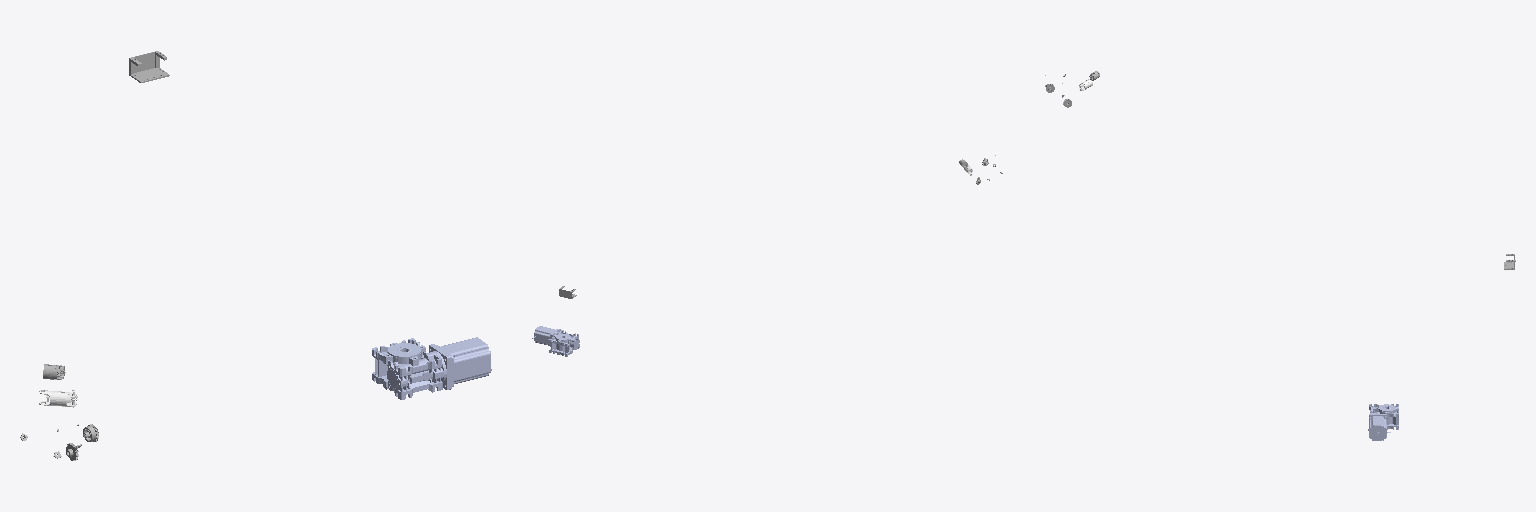
The robot description file, URDF, robot "full_robot_arm_urdf":
<?xml version="1.0" encoding="utf-8"?>
<!-- This URDF was automatically created by SolidWorks to URDF Exporter! Originally created by Stephen Brawner ([email redacted]) 
     Commit Version: 1.6.0-4-g7f85cfe  Build Version: 1.6.7995.38578
     For more information, please see http://wiki.ros.org/sw_urdf_exporter -->
<robot
  name="full_robot_arm_urdf">
  <link
    name="base_link">
    <inertial>
      <origin
        xyz="-0.00066697 -7.2956E-05 0.11391"
        rpy="0 0 0" />
      <mass
        value="1.2708" />
      <inertia
        ixx="0.0025837"
        ixy="-1.2489E-07"
        ixz="-3.2925E-07"
        iyy="0.0025874"
        iyz="-4.1069E-08"
        izz="0.0043243" />
    </inertial>
    <visual>
      <origin
        xyz="0 0 0"
        rpy="0 0 0" />
      <geometry>
        <mesh
          filename="package://full_robot_arm_urdf/meshes/base_link.STL" />
      </geometry>
      <material
        name="">
        <color
          rgba="0.75294 0.75294 0.75294 1" />
      </material>
    </visual>
    <collision>
      <origin
        xyz="0 0 0"
        rpy="0 0 0" />
      <geometry>
        <mesh
          filename="package://full_robot_arm_urdf/meshes/base_link.STL" />
      </geometry>
    </collision>
  </link>
  <link
    name="link_1">
    <inertial>
      <origin
        xyz="0.034889 0.0045793 0.046707"
        rpy="0 0 0" />
      <mass
        value="0.64188" />
      <inertia
        ixx="0.00046554"
        ixy="-2.0334E-05"
        ixz="2.9258E-05"
        iyy="0.00062637"
        iyz="3.9809E-06"
        izz="0.0006173" />
    </inertial>
    <visual>
      <origin
        xyz="0 0 0"
        rpy="0 0 0" />
      <geometry>
        <mesh
          filename="package://full_robot_arm_urdf/meshes/link_1.STL" />
      </geometry>
      <material
        name="">
        <color
          rgba="0.79216 0.81961 0.93333 1" />
      </material>
    </visual>
    <collision>
      <origin
        xyz="0 0 0"
        rpy="0 0 0" />
      <geometry>
        <mesh
          filename="package://full_robot_arm_urdf/meshes/link_1.STL" />
      </geometry>
    </collision>
  </link>
  <joint
    name="joint_1"
    type="revolute">
    <origin
      xyz="0 0 0.15678"
      rpy="0 0 0" />
    <parent
      link="base_link" />
    <child
      link="link_1" />
    <axis
      xyz="0 0 1" />
    <limit
      lower="-3.142"
      upper="3.142"
      effort="28.35"
      velocity="5.24" />
  </joint>
  <link
    name="link_2">
    <inertial>
      <origin
        xyz="0.001209 0.0061315 0.17443"
        rpy="0 0 0" />
      <mass
        value="0.39695" />
      <inertia
        ixx="0.0020155"
        ixy="5.8977E-06"
        ixz="-4.807E-07"
        iyy="0.0019726"
        iyz="-1.0537E-07"
        izz="0.0001469" />
    </inertial>
    <visual>
      <origin
        xyz="0 0 0"
        rpy="0 0 0" />
      <geometry>
        <mesh
          filename="package://full_robot_arm_urdf/meshes/link_2.STL" />
      </geometry>
      <material
        name="">
        <color
          rgba="0.75294 0.75294 0.75294 1" />
      </material>
    </visual>
    <collision>
      <origin
        xyz="0 0 0"
        rpy="0 0 0" />
      <geometry>
        <mesh
          filename="package://full_robot_arm_urdf/meshes/link_2.STL" />
      </geometry>
    </collision>
  </link>
  <joint
    name="joint_2"
    type="revolute">
    <origin
      xyz="0.00010358 1.3092E-05 0.0737"
      rpy="0 0 0" />
    <parent
      link="link_1" />
    <child
      link="link_2" />
    <axis
      xyz="-0.12539 0.99211 0" />
    <limit
      lower="-1.57"
      upper="1.57"
      effort="28.35"
      velocity="5.24" />
  </joint>
  <link
    name="link_3">
    <inertial>
      <origin
        xyz="-0.120540562634149 -0.0102131061643456 -5.76519410341314E-05"
        rpy="0 0 0" />
      <mass
        value="0.271185231914755" />
      <inertia
        ixx="9.09203079177439E-05"
        ixy="-0.000147557836847333"
        ixz="-2.18123959028502E-08"
        iyy="0.00123949608117588"
        iyz="3.22187008268715E-07"
        izz="0.00125346711057046" />
    </inertial>
    <visual>
      <origin
        xyz="0 0 0"
        rpy="0 0 0" />
      <geometry>
        <mesh
          filename="package://full_robot_arm_urdf/meshes/link_3.STL" />
      </geometry>
      <material
        name="">
        <color
          rgba="0.752941176470588 0.752941176470588 0.752941176470588 1" />
      </material>
    </visual>
    <collision>
      <origin
        xyz="0 0 0"
        rpy="0 0 0" />
      <geometry>
        <mesh
          filename="package://full_robot_arm_urdf/meshes/link_3.STL" />
      </geometry>
    </collision>
  </link>
  <joint
    name="joint_3"
    type="revolute">
    <origin
      xyz="0 0 0.4064"
      rpy="0 0 0" />
    <parent
      link="link_2" />
    <child
      link="link_3" />
    <axis
      xyz="0.12539 -0.99211 0" />
    <limit
      lower="-1"
      upper="3.14"
      effort="7.85"
      velocity="6.54" />
  </joint>
  <link
    name="link_4">
    <inertial>
      <origin
        xyz="0.000691147483266152 -0.00337681280202297 0.0288646245756417"
        rpy="0 0 0" />
      <mass
        value="0.18731544179836" />
      <inertia
        ixx="0.000131172951960669"
        ixy="3.82564482216409E-06"
        ixz="4.79993052351855E-09"
        iyy="0.000105908438924271"
        iyz="-1.72598376294206E-08"
        izz="0.000133438325685805" />
    </inertial>
    <visual>
      <origin
        xyz="0 0 0"
        rpy="0 0 0" />
      <geometry>
        <mesh
          filename="package://full_robot_arm_urdf/meshes/link_4.STL" />
      </geometry>
      <material
        name="">
        <color
          rgba="0.752941176470588 0.752941176470588 0.752941176470588 1" />
      </material>
    </visual>
    <collision>
      <origin
        xyz="0 0 0"
        rpy="0 0 0" />
      <geometry>
        <mesh
          filename="package://full_robot_arm_urdf/meshes/link_4.STL" />
      </geometry>
    </collision>
  </link>
  <joint
    name="joint_4"
    type="revolute">
    <origin
      xyz="-0.34841 -0.039718 0"
      rpy="0 0 0" />
    <parent
      link="link_3" />
    <child
      link="link_4" />
    <axis
      xyz="-0.12539 0.99211 0" />
    <limit
      lower="-3.14"
      upper="0"
      effort="2.45"
      velocity="8.08" />
  </joint>
  <link
    name="link_5">
    <inertial>
      <origin
        xyz="0.0135249185469873 0.0104054911896331 0.0389186612091647"
        rpy="0 0 0" />
      <mass
        value="0.451187361366382" />
      <inertia
        ixx="0.000179281260637796"
        ixy="-3.85719776156931E-06"
        ixz="-6.31784674882797E-07"
        iyy="0.000181879982946338"
        iyz="-6.0025556110912E-08"
        izz="0.000285356657571111" />
    </inertial>
    <visual>
      <origin
        xyz="0 0 0"
        rpy="0 0 0" />
      <geometry>
        <mesh
          filename="package://full_robot_arm_urdf/meshes/link_5.STL" />
      </geometry>
      <material
        name="">
        <color
          rgba="0.752941176470588 0.752941176470588 0.752941176470588 1" />
      </material>
    </visual>
    <collision>
      <origin
        xyz="0 0 0"
        rpy="0 0 0" />
      <geometry>
        <mesh
          filename="package://full_robot_arm_urdf/meshes/link_5.STL" />
      </geometry>
    </collision>
  </link>
  <joint
    name="joint_5"
    type="revolute">
    <origin
      xyz="0 0 0.077198"
      rpy="0 0 0" />
    <parent
      link="link_4" />
    <child
      link="link_5" />
    <axis
      xyz="0 0 -1" />
    <limit
      lower="-3.14"
      upper="3.14"
      effort="2.45"
      velocity="8.08" />
  </joint>
  <link
    name="ee_thumb_prox">
    <inertial>
      <origin
        xyz="-0.000363742372263914 -0.0136623441316672 0.0124786350606823"
        rpy="0 0 0" />
      <mass
        value="0.0140616051661292" />
      <inertia
        ixx="2.66037470712265E-06"
        ixy="-4.61561205563586E-08"
        ixz="3.91772433458902E-08"
        iyy="1.37750923910108E-06"
        iyz="8.22644622578878E-07"
        izz="1.61529675721767E-06" />
    </inertial>
    <visual>
      <origin
        xyz="0 0 0"
        rpy="0 0 0" />
      <geometry>
        <mesh
          filename="package://full_robot_arm_urdf/meshes/ee_thumb_prox.STL" />
      </geometry>
      <material
        name="">
        <color
          rgba="1 1 1 1" />
      </material>
    </visual>
    <collision>
      <origin
        xyz="0 0 0"
        rpy="0 0 0" />
      <geometry>
        <mesh
          filename="package://full_robot_arm_urdf/meshes/ee_thumb_prox.STL" />
      </geometry>
    </collision>
  </link>
  <joint
    name="ee_thumb_prox_joint"
    type="revolute">
    <origin
      xyz="0.044583 0.0062919 0.080425"
      rpy="0 0 1.6777" />
    <parent
      link="link_5" />
    <child
      link="ee_thumb_prox" />
    <axis
      xyz="1 0 0" />
    <limit
      lower="0"
      upper="1.57"
      effort="2.45"
      velocity="8.08" />
  </joint>
  <link
    name="ee_thumb_dist">
    <inertial>
      <origin
        xyz="4.9545E-07 -0.013721 0.012657"
        rpy="0 0 0" />
      <mass
        value="0.011962" />
      <inertia
        ixx="1.1235E-06"
        ixy="5.1548E-09"
        ixz="-2.7094E-09"
        iyy="7.9913E-07"
        iyz="8.7468E-08"
        izz="8.0291E-07" />
    </inertial>
    <visual>
      <origin
        xyz="0 0 0"
        rpy="0 0 0" />
      <geometry>
        <mesh
          filename="package://full_robot_arm_urdf/meshes/ee_thumb_dist.STL" />
      </geometry>
      <material
        name="">
        <color
          rgba="0.75294 0.75294 0.75294 1" />
      </material>
    </visual>
    <collision>
      <origin
        xyz="0 0 0"
        rpy="0 0 0" />
      <geometry>
        <mesh
          filename="package://full_robot_arm_urdf/meshes/ee_thumb_dist.STL" />
      </geometry>
    </collision>
  </link>
  <joint
    name="ee_thumb_dist_joint"
    type="revolute">
    <origin
      xyz="0 -0.035355 0.035355"
      rpy="0 0 0" />
    <parent
      link="ee_thumb_prox" />
    <child
      link="ee_thumb_dist" />
    <axis
      xyz="1 0 0" />
    <limit
      lower="0"
      upper="1.57"
      effort="2.45"
      velocity="8.08" />
  </joint>
  <link
    name="ee_finger1_roll">
    <inertial>
      <origin
        xyz="-0.0030344450905359 0.00298790974640029 0.0236510274163294"
        rpy="0 0 0" />
      <mass
        value="0.026092694642213" />
      <inertia
        ixx="1.75874153155982E-06"
        ixy="2.55040020024406E-07"
        ixz="2.05949516104452E-07"
        iyy="2.10388510315654E-06"
        iyz="-8.14519287998053E-08"
        izz="2.52686919974154E-06" />
    </inertial>
    <visual>
      <origin
        xyz="0 0 0"
        rpy="0 0 0" />
      <geometry>
        <mesh
          filename="package://full_robot_arm_urdf/meshes/ee_finger1_roll.STL" />
      </geometry>
      <material
        name="">
        <color
          rgba="0.752941176470588 0.752941176470588 0.752941176470588 1" />
      </material>
    </visual>
    <collision>
      <origin
        xyz="0 0 0"
        rpy="0 0 0" />
      <geometry>
        <mesh
          filename="package://full_robot_arm_urdf/meshes/ee_finger1_roll.STL" />
      </geometry>
    </collision>
  </link>
  <joint
    name="ee_finger1_roll_joint"
    type="revolute">
    <origin
      xyz="-0.02203 -0.029016 0.039425"
      rpy="0 0 1.6777" />
    <parent
      link="link_5" />
    <child
      link="ee_finger1_roll" />
    <axis
      xyz="0 0 -1" />
    <limit
      lower="-3.14"
      upper="3.14"
      effort="2.45"
      velocity="8.08" />
  </joint>
  <link
    name="ee_finger1_prox">
    <inertial>
      <origin
        xyz="-0.0100151366264025 0.0100881023099159 0.0126098230447425"
        rpy="0 0 0" />
      <mass
        value="0.0146611614005227" />
      <inertia
        ixx="2.05001390459699E-06"
        ixy="6.35204259208587E-07"
        ixz="5.67345609755155E-07"
        iyy="2.00461936538838E-06"
        iyz="-5.98929942827042E-07"
        izz="1.62919639103441E-06" />
    </inertial>
    <visual>
      <origin
        xyz="0 0 0"
        rpy="0 0 0" />
      <geometry>
        <mesh
          filename="package://full_robot_arm_urdf/meshes/ee_finger1_prox.STL" />
      </geometry>
      <material
        name="">
        <color
          rgba="0.752941176470588 0.752941176470588 0.752941176470588 1" />
      </material>
    </visual>
    <collision>
      <origin
        xyz="0 0 0"
        rpy="0 0 0" />
      <geometry>
        <mesh
          filename="package://full_robot_arm_urdf/meshes/ee_finger1_prox.STL" />
      </geometry>
    </collision>
  </link>
  <joint
    name="ee_finger1_prox_joint"
    type="revolute">
    <origin
      xyz="0 0 0.043"
      rpy="0 0 0" />
    <parent
      link="ee_finger1_roll" />
    <child
      link="ee_finger1_prox" />
    <axis
      xyz="-0.69373 -0.72024 0" />
    <limit
      lower="0"
      upper="1.57"
      effort="2.45"
      velocity="8.08" />
  </joint>
  <link
    name="ee_finger1_dist">
    <inertial>
      <origin
        xyz="-0.0099923 0.0091921 0.011874"
        rpy="0 0 0" />
      <mass
        value="0.01344" />
      <inertia
        ixx="9.8068E-07"
        ixy="1.3211E-07"
        ixz="6.4617E-08"
        iyy="1.0007E-06"
        iyz="-5.8229E-08"
        izz="8.5994E-07" />
    </inertial>
    <visual>
      <origin
        xyz="0 0 0"
        rpy="0 0 0" />
      <geometry>
        <mesh
          filename="package://full_robot_arm_urdf/meshes/ee_finger1_dist.STL" />
      </geometry>
      <material
        name="">
        <color
          rgba="0.75294 0.75294 0.75294 1" />
      </material>
    </visual>
    <collision>
      <origin
        xyz="0 0 0"
        rpy="0 0 0" />
      <geometry>
        <mesh
          filename="package://full_robot_arm_urdf/meshes/ee_finger1_dist.STL" />
      </geometry>
    </collision>
  </link>
  <joint
    name="ee_finger1_dist_joint"
    type="revolute">
    <origin
      xyz="-0.025475 0.024538 0.03534"
      rpy="0 0 0" />
    <parent
      link="ee_finger1_prox" />
    <child
      link="ee_finger1_dist" />
    <axis
      xyz="-0.69373 -0.72024 0" />
    <limit
      lower="0"
      upper="1.57"
      effort="2.45"
      velocity="8.08" />
  </joint>
  <link
    name="ee_finger2_roll">
    <inertial>
      <origin
        xyz="0.00334718250235318 0.00334927922012673 0.0253640265895112"
        rpy="0 0 0" />
      <mass
        value="0.0232082046067633" />
      <inertia
        ixx="1.59711372864254E-06"
        ixy="-2.50507212743501E-07"
        ixz="-2.05033589186341E-07"
        iyy="1.92999911038311E-06"
        iyz="-8.38287232295659E-08"
        izz="2.29417877831148E-06" />
    </inertial>
    <visual>
      <origin
        xyz="0 0 0"
        rpy="0 0 0" />
      <geometry>
        <mesh
          filename="package://full_robot_arm_urdf/meshes/ee_finger2_roll.STL" />
      </geometry>
      <material
        name="">
        <color
          rgba="0.752941176470588 0.752941176470588 0.752941176470588 1" />
      </material>
    </visual>
    <collision>
      <origin
        xyz="0 0 0"
        rpy="0 0 0" />
      <geometry>
        <mesh
          filename="package://full_robot_arm_urdf/meshes/ee_finger2_roll.STL" />
      </geometry>
    </collision>
  </link>
  <joint
    name="ee_finger2_roll_joint"
    type="revolute">
    <origin
      xyz="-0.028004 0.026665 0.039425"
      rpy="0 0 1.6777" />
    <parent
      link="link_5" />
    <child
      link="ee_finger2_roll" />
    <axis
      xyz="0 0 -1" />
    <limit
      lower="-3.14"
      upper="3.14"
      effort="2.45"
      velocity="8.08" />
  </joint>
  <link
    name="ee_finger2_prox">
    <inertial>
      <origin
        xyz="0.00982114968186977 0.0100894020170717 0.0127607456764693"
        rpy="0 0 0" />
      <mass
        value="0.0146611931889972" />
      <inertia
        ixx="2.0707844397317E-06"
        ixy="-6.25843565648403E-07"
        ixz="-5.62879421403144E-07"
        iyy="2.00142298950427E-06"
        iyz="-6.06361385897441E-07"
        izz="1.61160043588826E-06" />
    </inertial>
    <visual>
      <origin
        xyz="0 0 0"
        rpy="0 0 0" />
      <geometry>
        <mesh
          filename="package://full_robot_arm_urdf/meshes/ee_finger2_prox.STL" />
      </geometry>
      <material
        name="">
        <color
          rgba="0.776470588235294 0.756862745098039 0.737254901960784 1" />
      </material>
    </visual>
    <collision>
      <origin
        xyz="0 0 0"
        rpy="0 0 0" />
      <geometry>
        <mesh
          filename="package://full_robot_arm_urdf/meshes/ee_finger2_prox.STL" />
      </geometry>
    </collision>
  </link>
  <joint
    name="ee_finger2_prox_joint"
    type="revolute">
    <origin
      xyz="-4.8612E-05 4.9507E-05 0.043"
      rpy="0 0 0" />
    <parent
      link="ee_finger2_roll" />
    <child
      link="ee_finger2_prox" />
    <axis
      xyz="0.70063 -0.71353 0" />
    <limit
      lower="0"
      upper="1.57"
      effort="2.45"
      velocity="8.08" />
  </joint>
  <link
    name="ee_finger2_dist">
    <inertial>
      <origin
        xyz="0.0096228 0.0090347 0.011962"
        rpy="0 0 0" />
      <mass
        value="0.013599" />
      <inertia
        ixx="9.8748E-07"
        ixy="-1.3157E-07"
        ixz="-6.4233E-08"
        iyy="1.0023E-06"
        iyz="-5.8906E-08"
        izz="8.5866E-07" />
    </inertial>
    <visual>
      <origin
        xyz="0 0 0"
        rpy="0 0 0" />
      <geometry>
        <mesh
          filename="package://full_robot_arm_urdf/meshes/ee_finger2_dist.STL" />
      </geometry>
      <material
        name="">
        <color
          rgba="0.75294 0.75294 0.75294 1" />
      </material>
    </visual>
    <collision>
      <origin
        xyz="0 0 0"
        rpy="0 0 0" />
      <geometry>
        <mesh
          filename="package://full_robot_arm_urdf/meshes/ee_finger2_dist.STL" />
      </geometry>
    </collision>
  </link>
  <joint
    name="ee_finger2_dist_joint"
    type="revolute">
    <origin
      xyz="0.024968 0.024516 0.035715"
      rpy="0 0 0" />
    <parent
      link="ee_finger2_prox" />
    <child
      link="ee_finger2_dist" />
    <axis
      xyz="0.70063 -0.71353 0" />
    <limit
      lower="0"
      upper="1.57"
      effort="2.45"
      velocity="8.08" />
  </joint>
</robot>

--- Render facts (derived) ---
3 views of the same robot in one strip: view 1: azimuth 30°, elevation 25°; view 2: azimuth 150°, elevation 25°; view 3: azimuth 270°, elevation 25° (orthographic).
Model full_robot_arm_urdf with 14 links and 13 joints (13 revolute), rooted at base_link, posed all joints at 0.
Links seen in each view (by area): view 1: link_1, link_3; view 2: link_1; view 3: link_1.
Boxes of the visible links, box(x1,y1,x2,y2) form: link_1: box(372, 337, 491, 399); link_3: box(129, 51, 169, 82); link_1: box(532, 326, 579, 356); link_1: box(1368, 404, 1398, 440).
Size in the robot's own frame: 1.47 by 1.54 by 0.7055 metres.
9 mesh visuals loaded from 14 distinct referenced files (9 binary STL); not drawn: 2 (reference not matched to a file when rendering), 3 (file found but could not be loaded).
